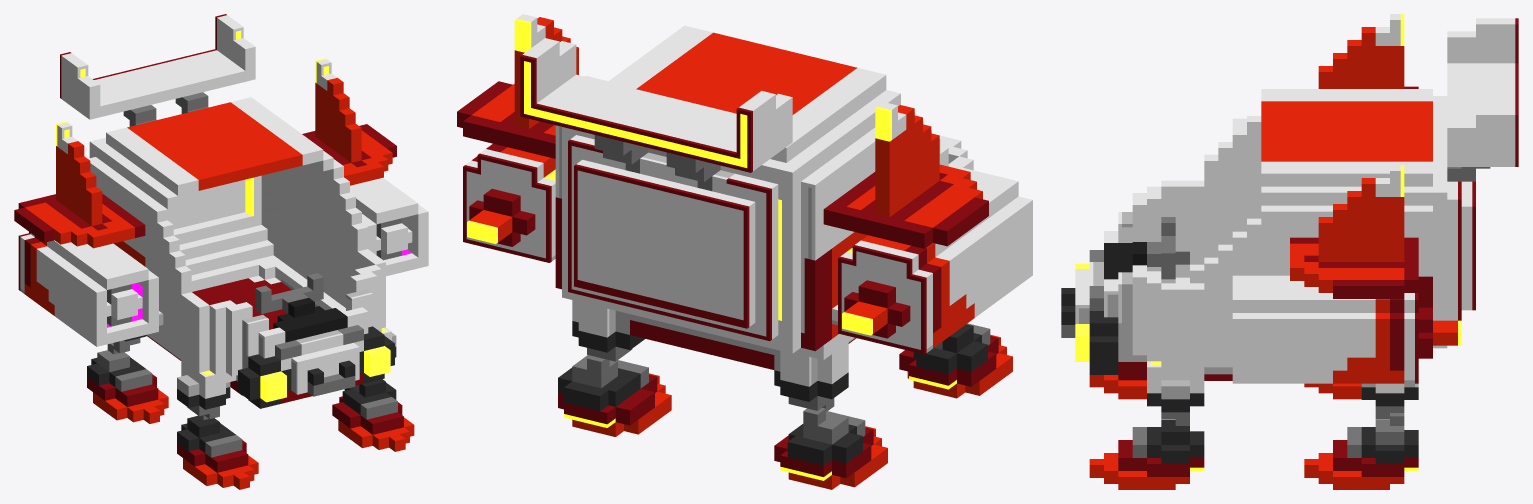
The model's file is asset.glb.
3 renders of one model, left to right at view 1: azimuth 30°, elevation 25°; view 2: azimuth 150°, elevation 25°; view 3: azimuth 270°, elevation 25°, orthographic. The views are drawn at different scales.
Visible parts, largest first — view 1: R0nin -21-7, R0nin -21-9, R0nin -21-8, R0nin -21-5, R0nin -21-0, R0nin -21-2, R0nin -21-3, R0nin -21-1, R0nin -21-4; view 2: R0nin -21-7, R0nin -21-8, R0nin -21-9, R0nin -21-0, R0nin -21-5, R0nin -21-2, R0nin -21-4, R0nin -21-1; view 3: R0nin -21-7, R0nin -21-9, R0nin -21-8, R0nin -21-0, R0nin -21-5, R0nin -21-4, R0nin -21-3, R0nin -21-2.
Part boxes in pixels (bbox=[...]): R0nin -21-7: bbox=[20, 15, 428, 398]; R0nin -21-9: bbox=[24, 78, 414, 489]; R0nin -21-8: bbox=[14, 14, 403, 472]; R0nin -21-5: bbox=[97, 92, 401, 457]; R0nin -21-0: bbox=[87, 326, 396, 452]; R0nin -21-2: bbox=[56, 30, 390, 402]; R0nin -21-3: bbox=[273, 297, 347, 342]; R0nin -21-1: bbox=[20, 191, 345, 311]; R0nin -21-4: bbox=[20, 279, 396, 396]; R0nin -21-7: bbox=[466, 14, 1032, 386]; R0nin -21-8: bbox=[457, 55, 998, 478]; R0nin -21-9: bbox=[469, 17, 1012, 489]; R0nin -21-0: bbox=[558, 321, 987, 465]; R0nin -21-5: bbox=[572, 135, 990, 444]; R0nin -21-2: bbox=[467, 18, 956, 480]; R0nin -21-4: bbox=[551, 126, 932, 384]; R0nin -21-1: bbox=[466, 156, 932, 323]; R0nin -21-7: bbox=[1075, 14, 1515, 393]; R0nin -21-9: bbox=[1089, 27, 1457, 489]; R0nin -21-8: bbox=[1118, 18, 1518, 476]; R0nin -21-0: bbox=[1061, 288, 1418, 463]; R0nin -21-5: bbox=[1061, 167, 1490, 457]; R0nin -21-4: bbox=[1079, 212, 1414, 399]; R0nin -21-3: bbox=[1104, 242, 1146, 279]; R0nin -21-2: bbox=[1075, 14, 1461, 470].
Size of the model in its own units: 13.6 by 11.2 by 12.8.
11 materials, 3 textured.
